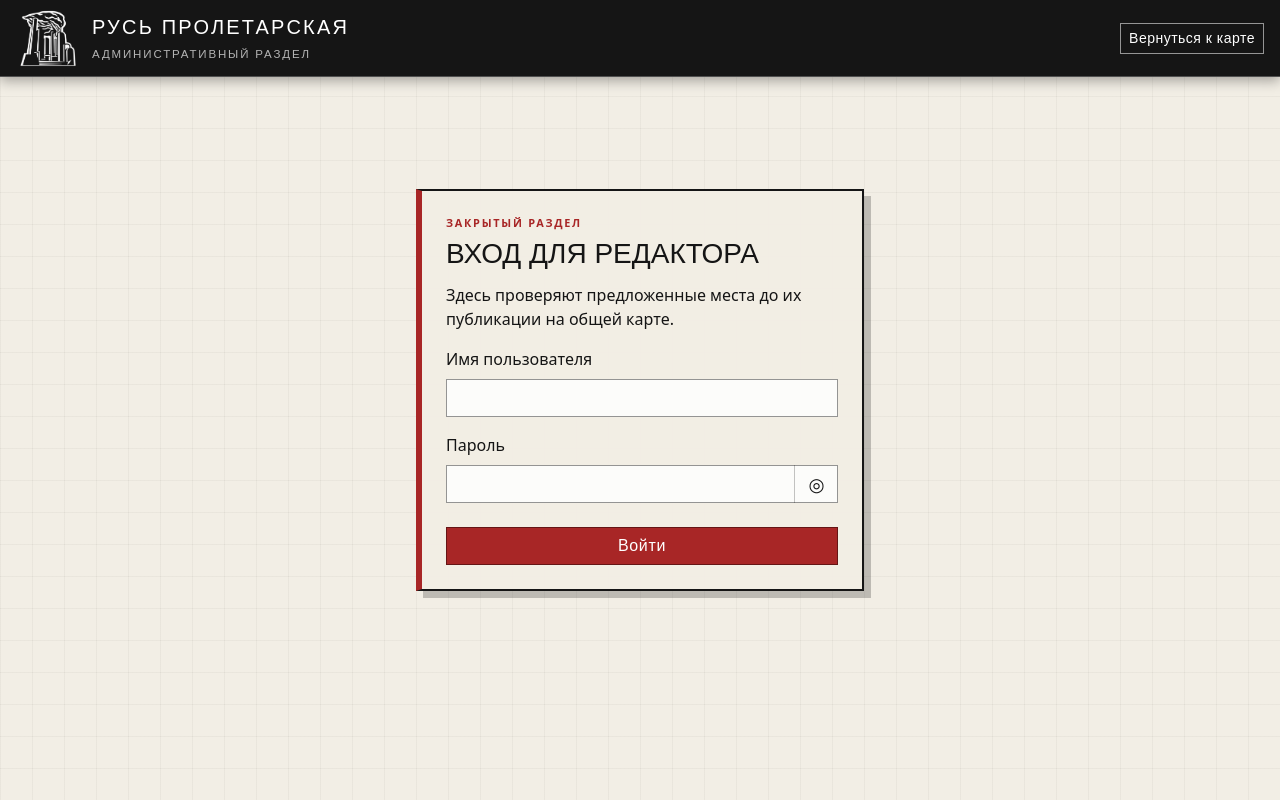
Test case: AdminApp › logs in and loads the pending queue
In the field labelled "Имя пользователя": (642, 398) [446,378,838,416], type "editor"
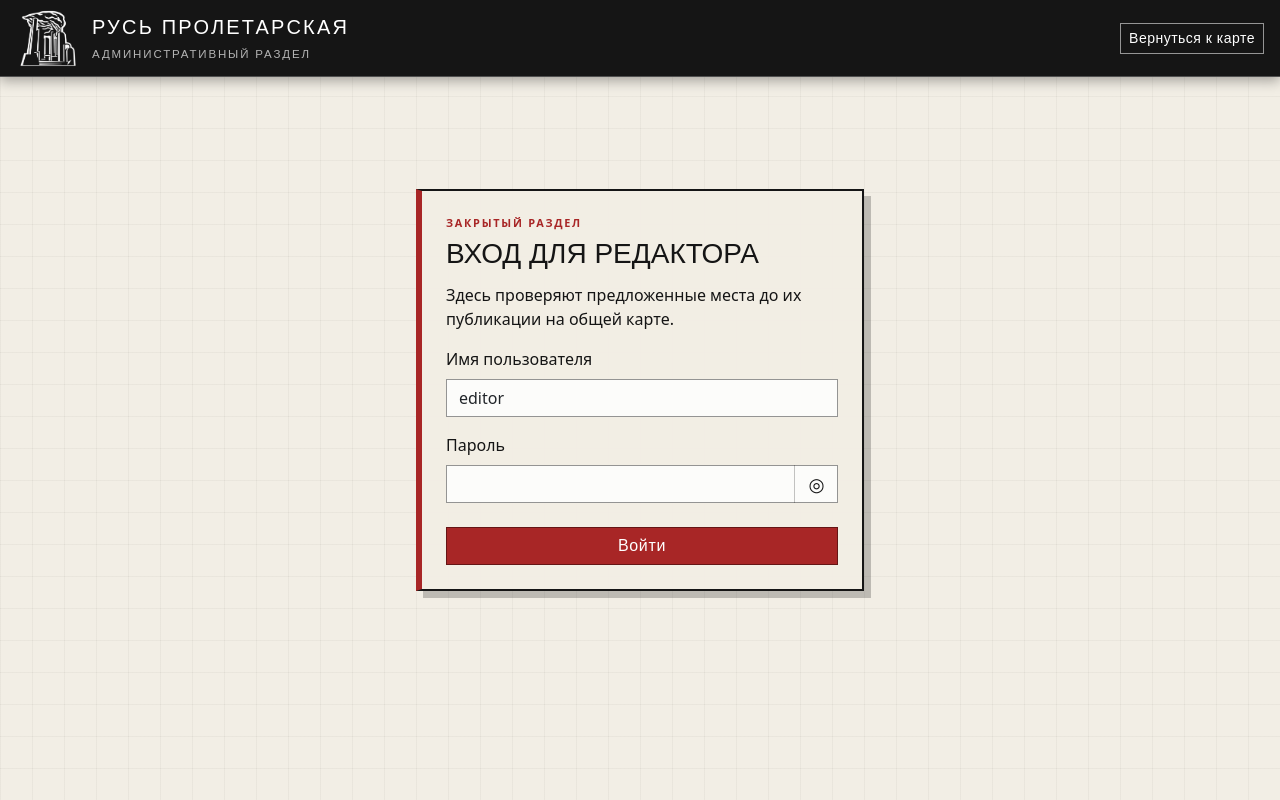
In the password field labelled "Пароль": (642, 484) [446,464,838,502], type "secret password"
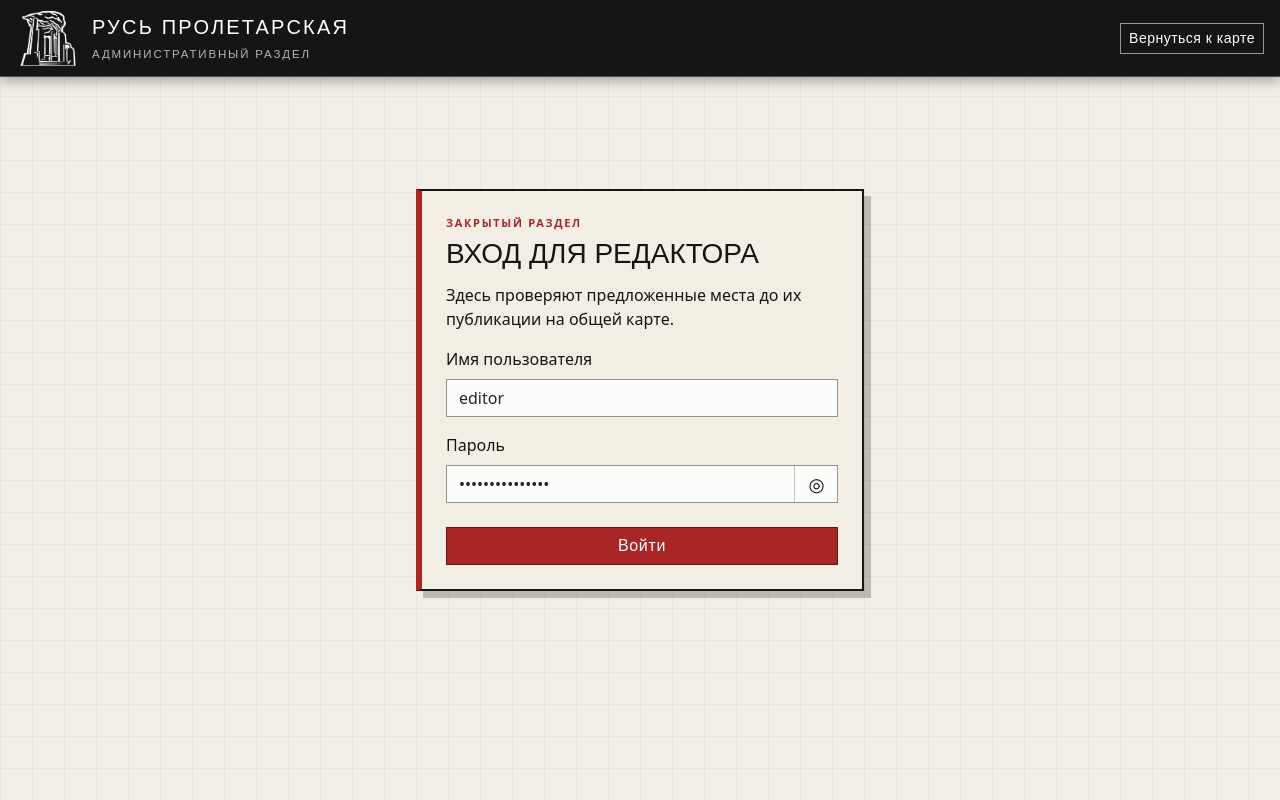
Click the button "Войти": (642, 546) [446,526,838,564]
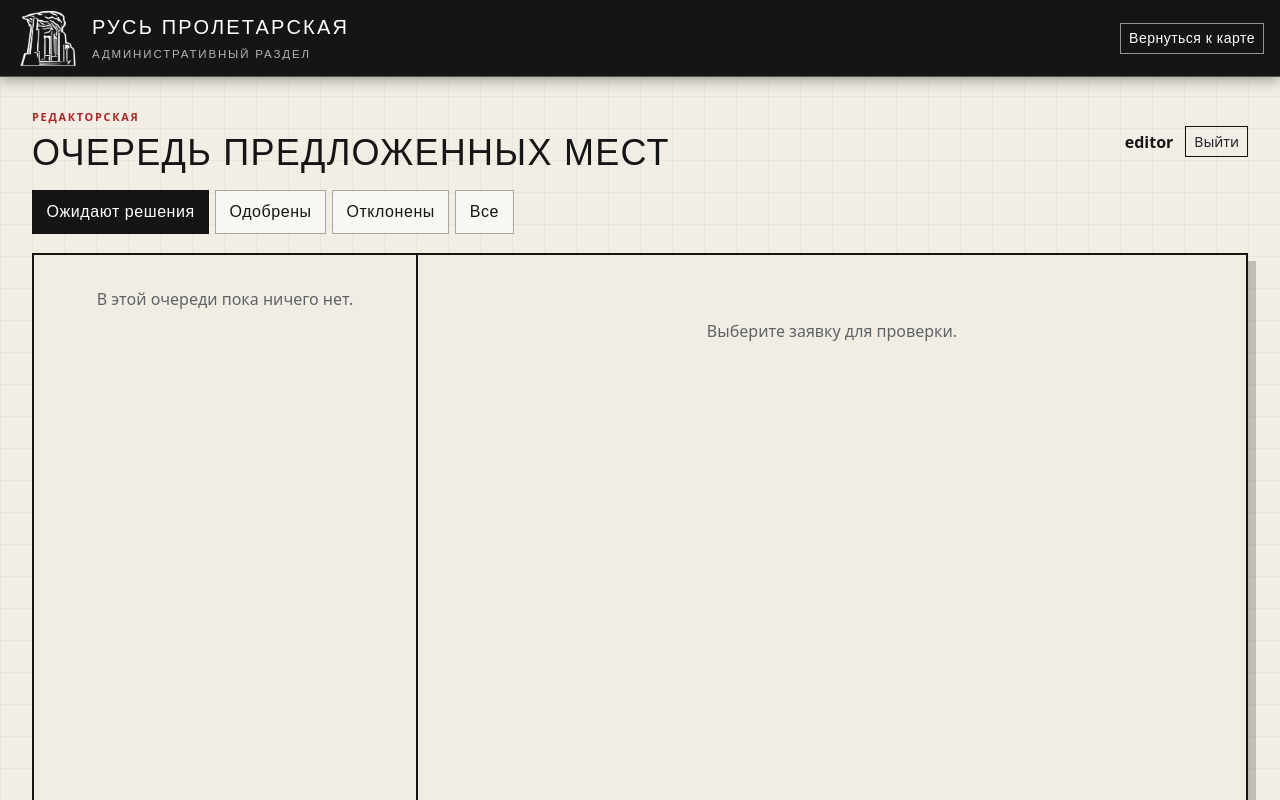
Now the heading "Очередь предложенных мест" is shown, box [32,131,670,174]
